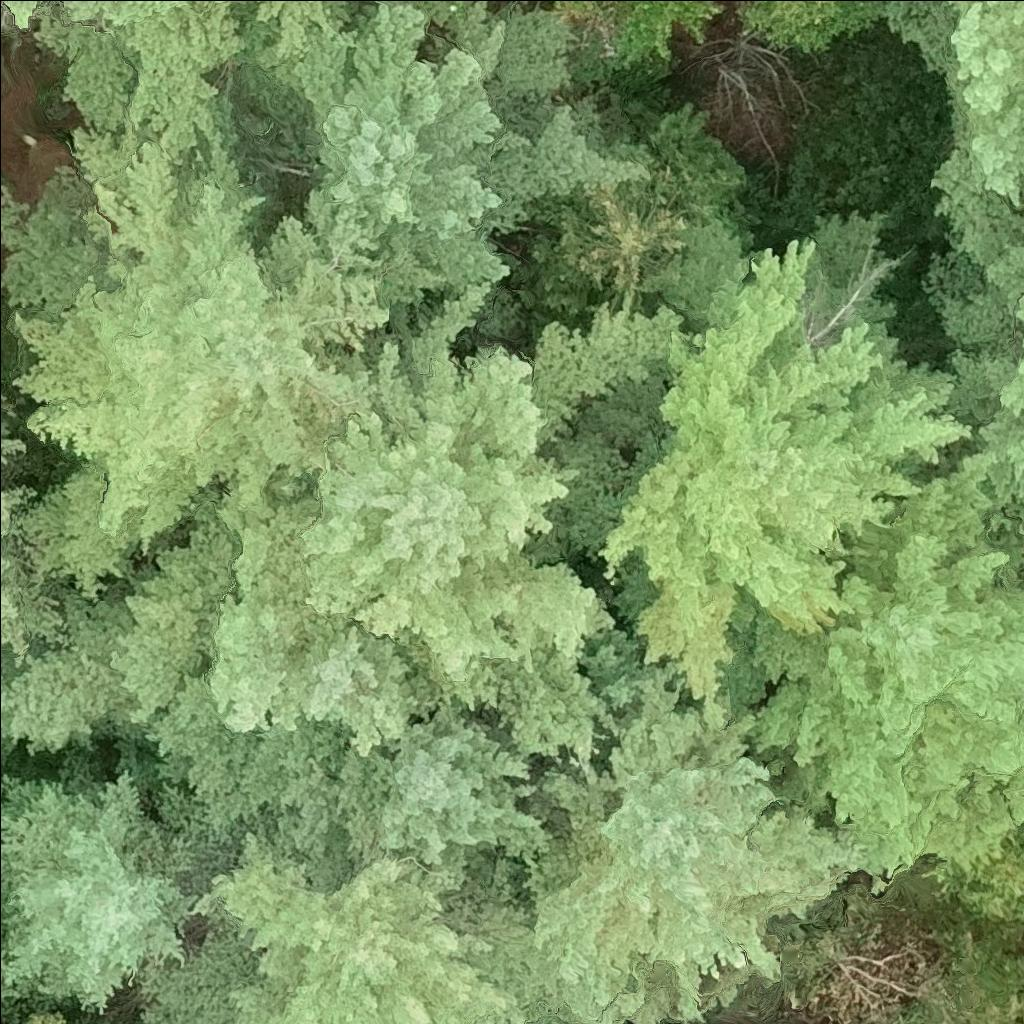crown: (0, 277, 687, 863), (568, 203, 980, 726), (0, 73, 395, 604), (234, 0, 660, 308), (514, 661, 871, 1023), (750, 443, 1023, 895), (133, 820, 570, 1023), (0, 734, 205, 1023), (30, 0, 373, 158), (882, 0, 1023, 268), (332, 699, 551, 870), (915, 226, 1023, 530), (0, 387, 65, 681), (0, 0, 53, 38), (0, 940, 30, 998), (0, 739, 21, 780), (11, 1009, 67, 1023)
